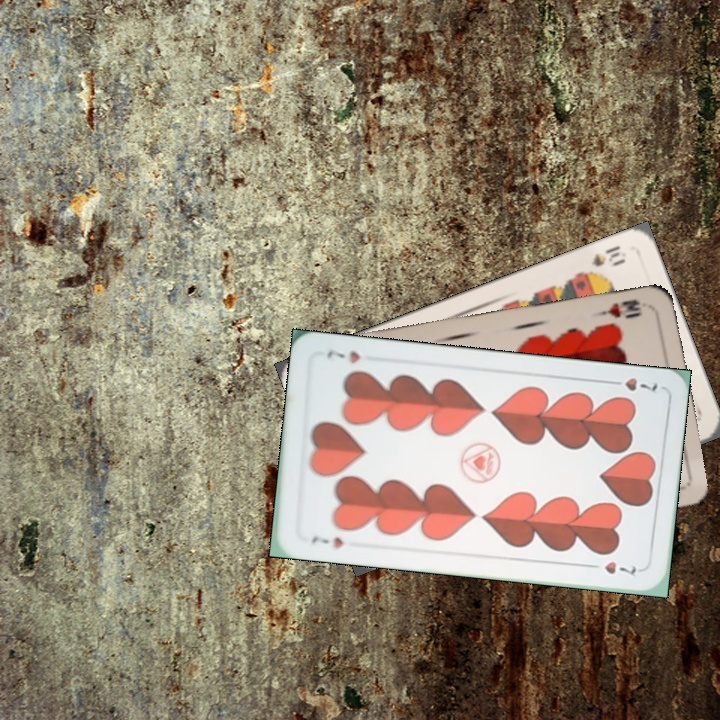H10: (594, 295, 644, 321)
H7: (604, 373, 660, 394), (308, 532, 346, 551)
S10: (576, 241, 629, 280)
